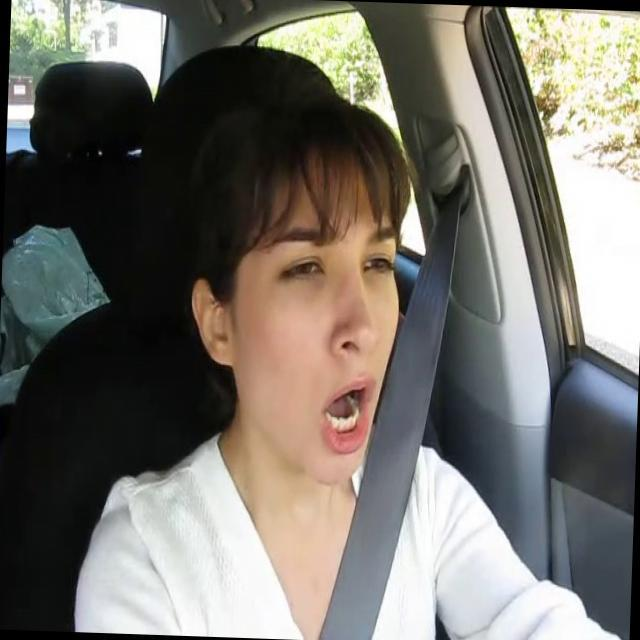Yawning: (316, 374, 379, 456)
